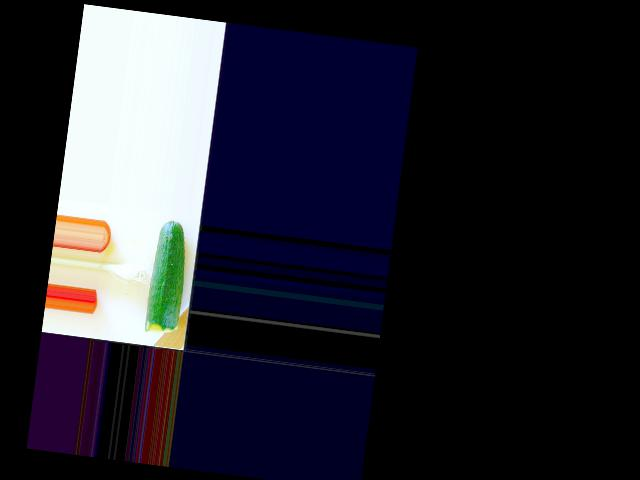cucumber: (144, 218, 192, 335)
